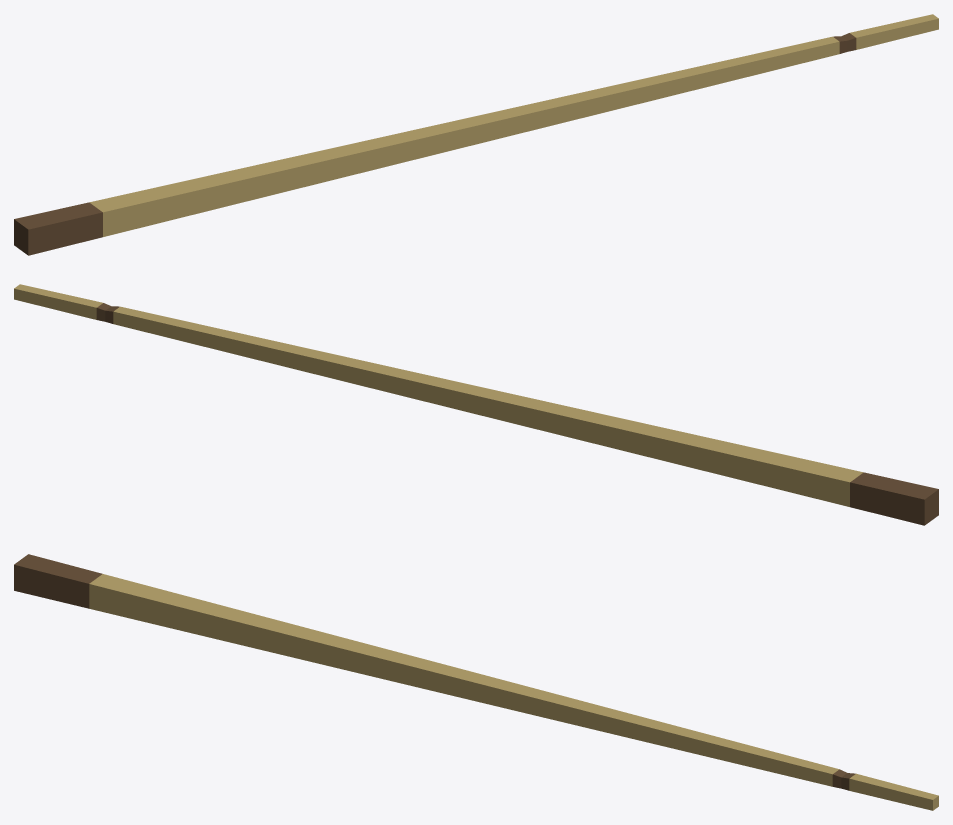
The model's file is chopstick.glb.
3 renders of one model, top to bottom at view 1: azimuth 30°, elevation 25°; view 2: azimuth 150°, elevation 25°; view 3: azimuth 330°, elevation 25°, orthographic.
Parts seen in each view (by area): view 1: chopstick; view 2: chopstick; view 3: chopstick.
Part boxes in pixels (x1,y1,x2,y2): chopstick: (14, 14, 938, 255); chopstick: (14, 284, 938, 525); chopstick: (14, 554, 938, 810).
Bounding box in the file's own units: 0.22 × 0.006 × 0.006.
